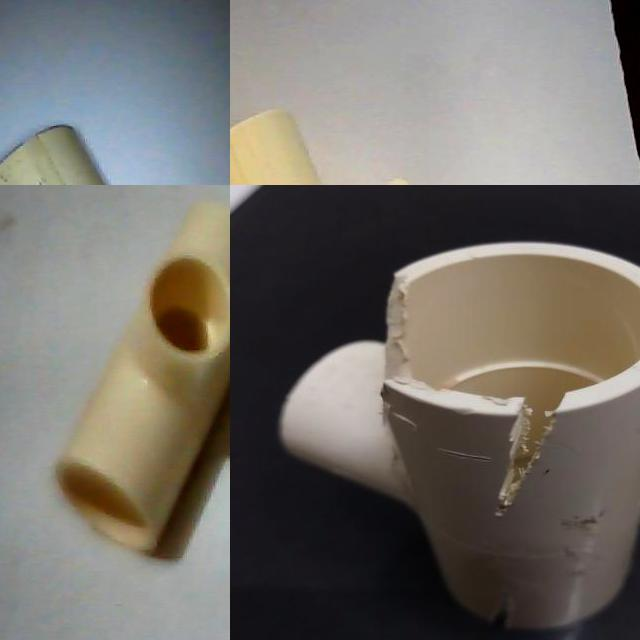Defective: (357, 254, 447, 443), (479, 375, 599, 513), (489, 593, 517, 626)
T Joint: (53, 200, 230, 564)
